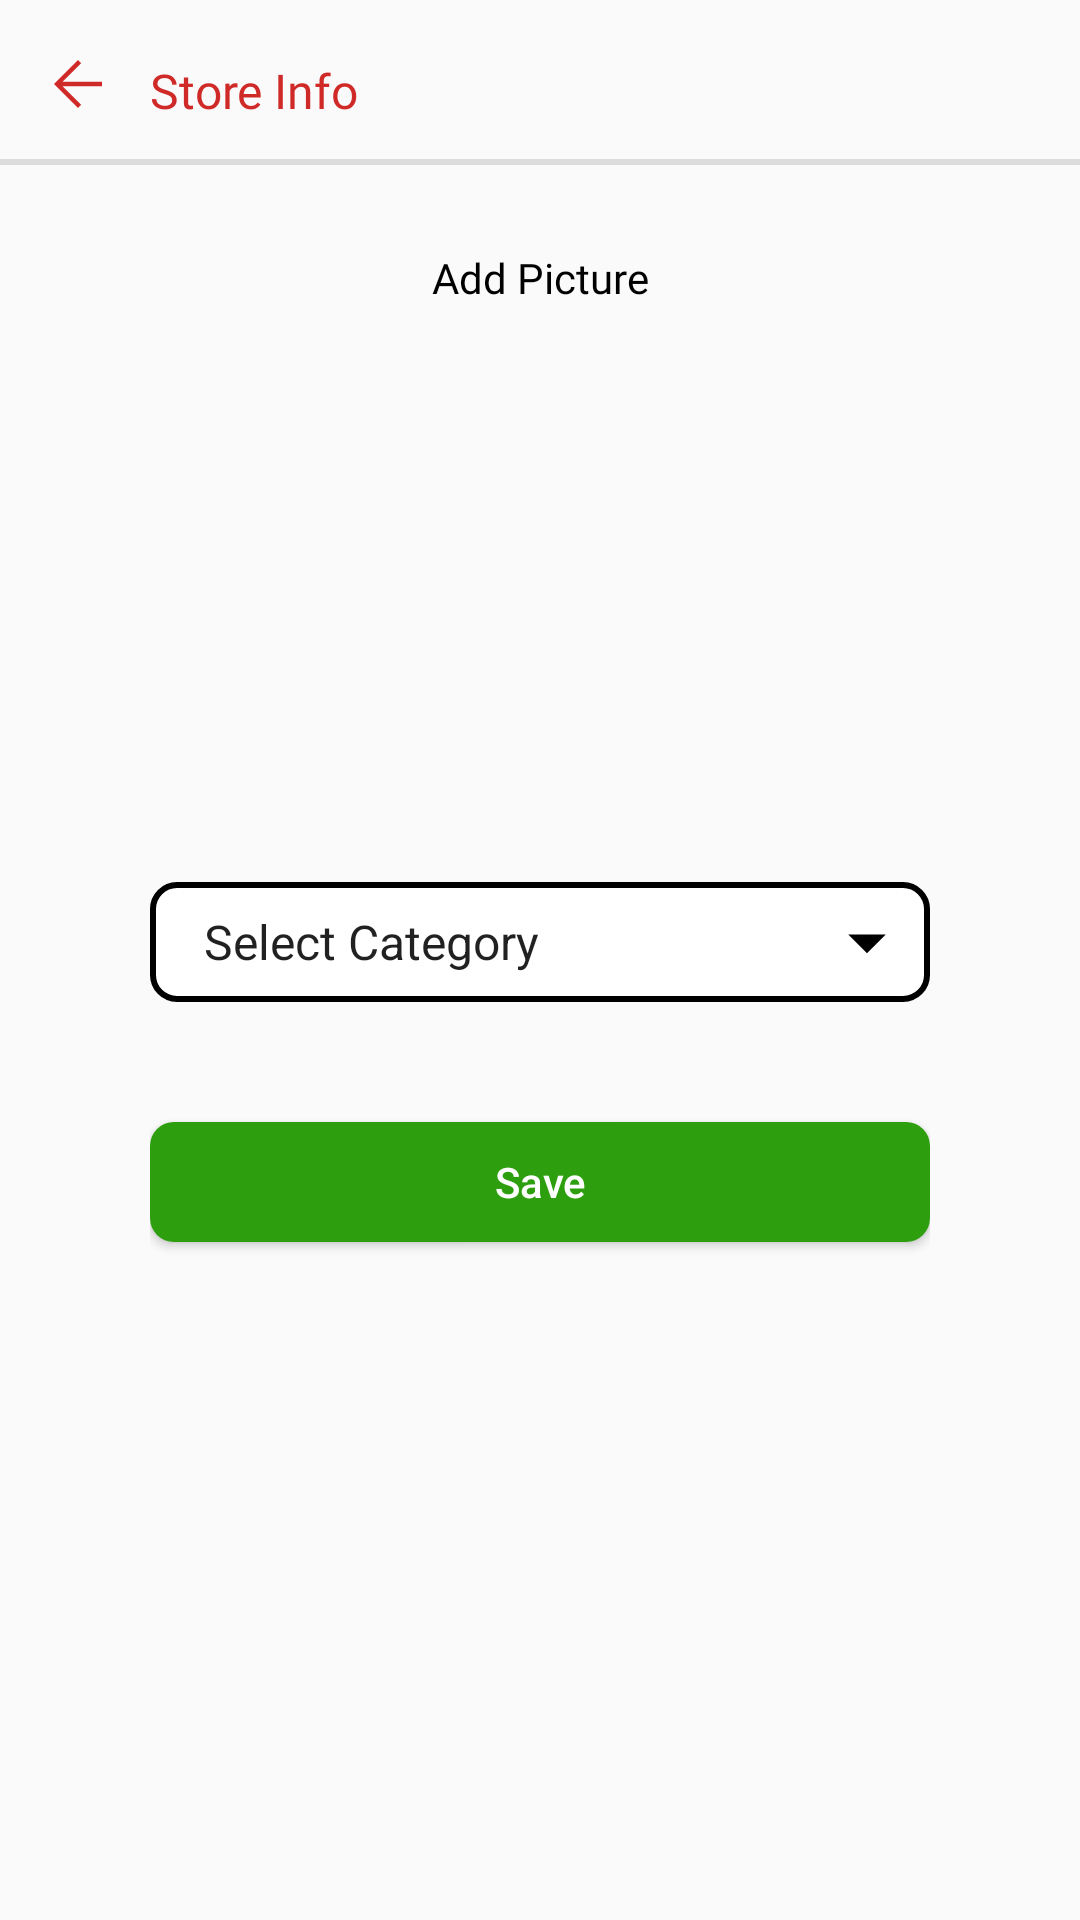

Where to tap for icons on this 1080px×1920px app screen, as (x=x, y=y):
arrow back: (x=78, y=84)
drop down: (x=867, y=943)
